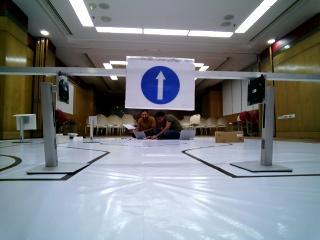straight: (125, 57, 195, 111)
